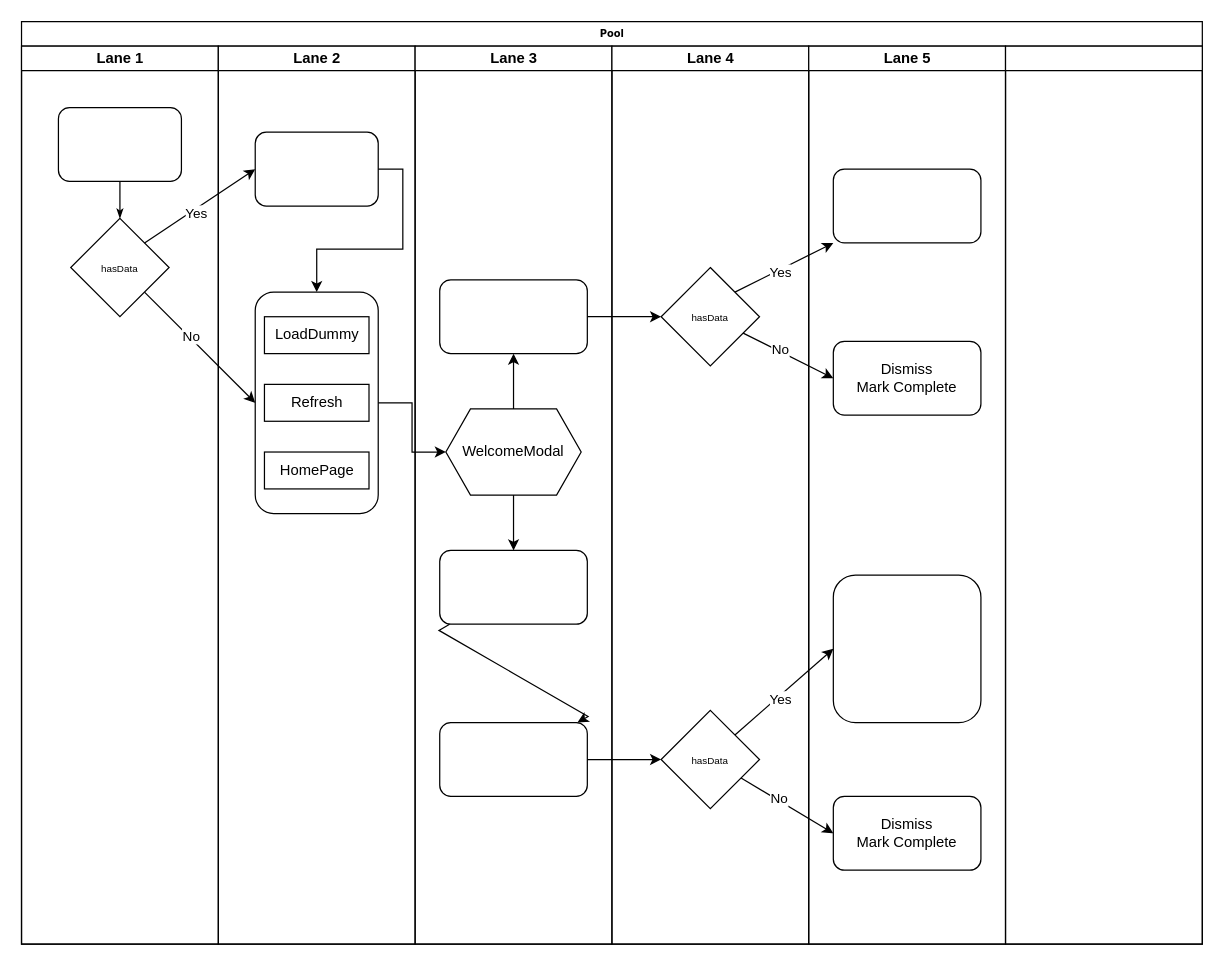
The diagram is 1224 pixels wide and 966 high, and some of its shapes have lost their labels. The shapes that lost their labels are listed below. From the top down, each one's centre as x and y in pixels, then its label:
the point at 119,143: Reset
the point at 316,168: SaveData
the point at 906,205: Restore Dismiss MarkComplete
the point at 512,316: Skip
the point at 1103,494: Lane 6
the point at 512,586: Tour
the point at 906,648: Clear DB Load Data Dismiss Mark Complete
the point at 512,758: onComplete
